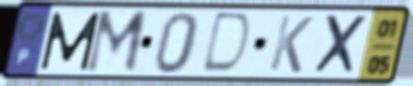0: (152, 10, 202, 76)
D: (198, 10, 255, 77)
K: (266, 14, 316, 76)
M: (81, 8, 150, 77), (38, 10, 104, 72)
X: (310, 13, 371, 77)
